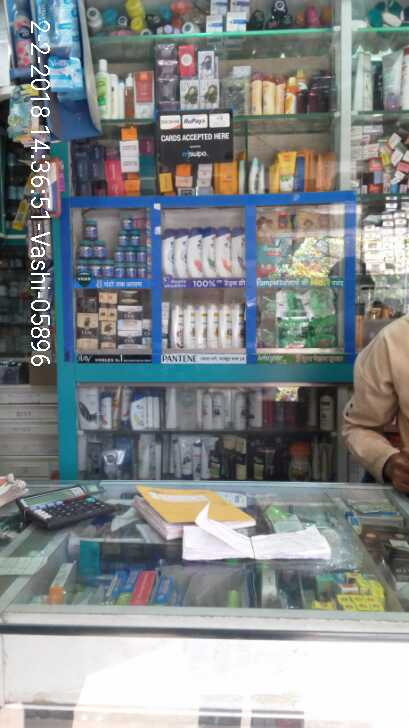beauty: (72, 312, 98, 349), (231, 228, 246, 280), (187, 229, 202, 281), (215, 230, 231, 278), (117, 305, 143, 330), (218, 300, 231, 349), (98, 319, 117, 350), (205, 303, 218, 348), (183, 305, 195, 349), (171, 304, 182, 348), (117, 331, 141, 351)
pharmacy: (255, 234, 296, 280), (306, 317, 337, 349), (275, 319, 306, 348), (112, 262, 146, 281), (113, 247, 148, 264), (117, 230, 140, 249), (82, 217, 100, 240), (77, 242, 91, 261), (118, 212, 132, 230), (91, 242, 104, 260), (100, 263, 114, 279), (91, 261, 103, 279)
